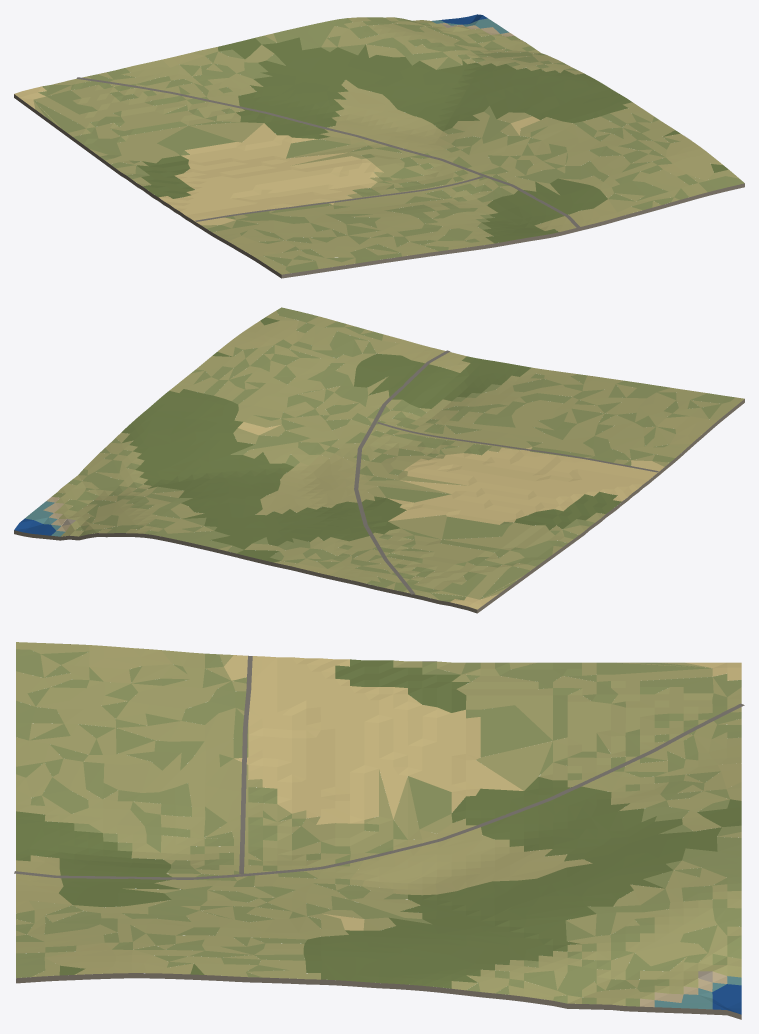
Rendered from parca_+14_-3-uzak.glb.
The picture shows the model from 3 angles, top to bottom: view 1: azimuth 30°, elevation 25°; view 2: azimuth 150°, elevation 25°; view 3: azimuth 270°, elevation 25°; orthographic projection. The views are drawn at different scales.
Visible parts, largest first — view 1: parca_+14_-3_arazi_uzak, parca_+14_-3_yollar_uzak; view 2: parca_+14_-3_arazi_uzak, parca_+14_-3_yollar_uzak; view 3: parca_+14_-3_arazi_uzak, parca_+14_-3_yollar_uzak.
Part boxes in pixels (x1,y1,x2,y2): parca_+14_-3_arazi_uzak: (14, 14, 744, 278); parca_+14_-3_yollar_uzak: (76, 77, 580, 227); parca_+14_-3_arazi_uzak: (14, 307, 744, 613); parca_+14_-3_yollar_uzak: (354, 350, 658, 594); parca_+14_-3_arazi_uzak: (16, 642, 741, 1019); parca_+14_-3_yollar_uzak: (14, 656, 744, 879).
Bounding box in the file's own units: 1000 × 108 × 1007.
